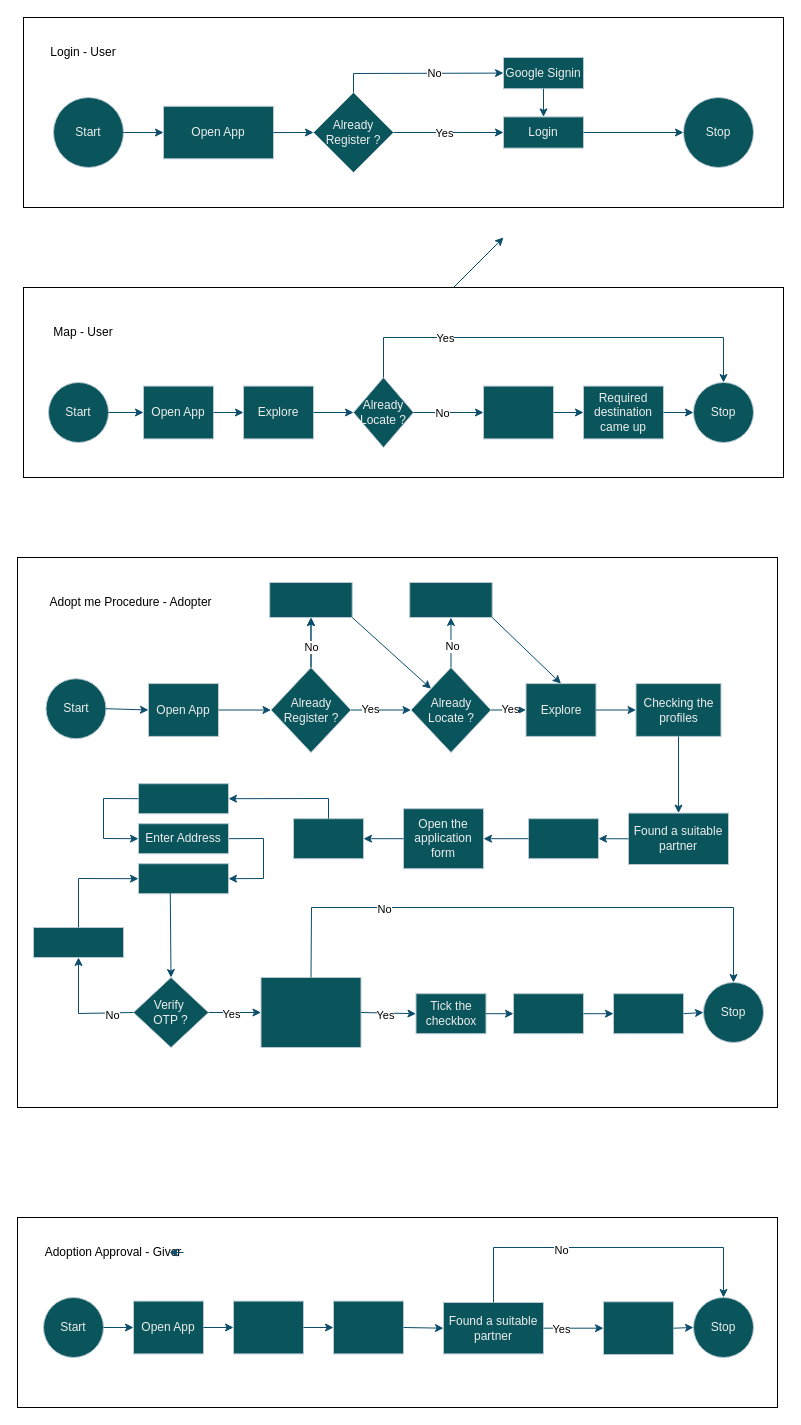
Image size: 801x1425. Some labels were removed from this diagram. The shapes that lost their labels are listed below. From the top down, each one's centre as x and y in pixels, then its label:
[518,412]: Enter location
[310,600]: Google Login
[450,600]: Locate
[183,798]: Enter Username
[328,838]: Fill the form
[563,838]: "Adopt me"
[183,878]: Enter PhoneNo
[78,942]: Resend OTP
[310,1012]: Agreed to the terns and guidances ?
[548,1013]: Adopter's signature
[648,1013]: Submit form
[268,1327]: Open My Post
[368,1327]: Check the Adopters's Profiles
[638,1328]: Confirm
